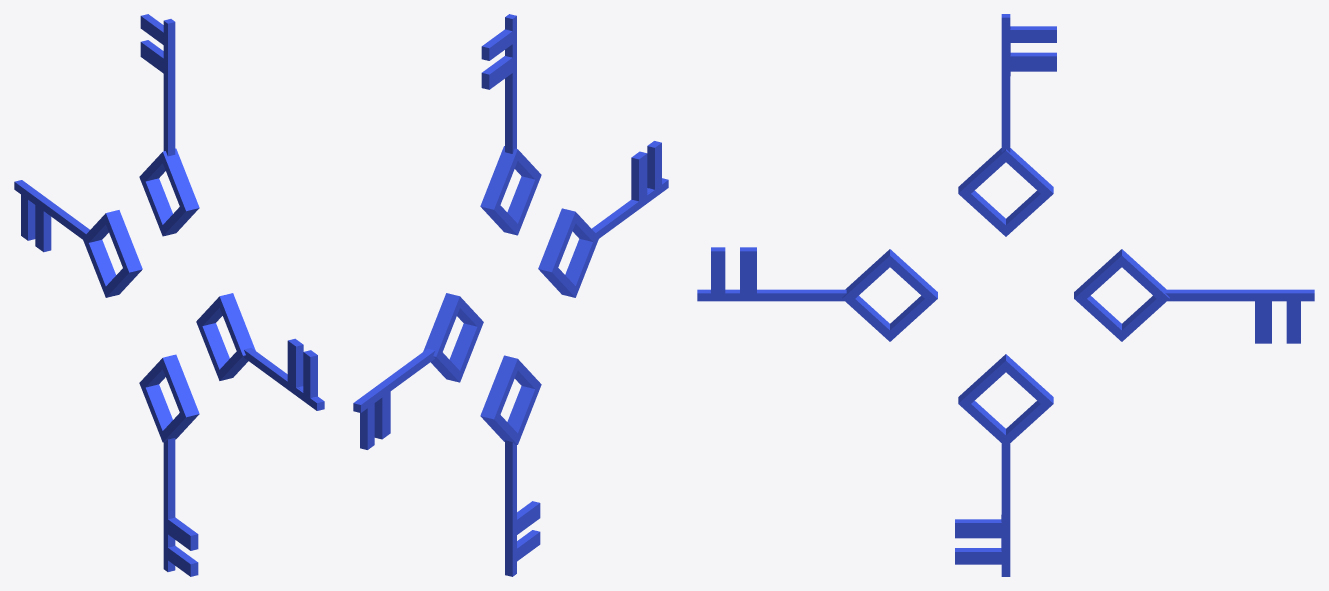
The picture shows the model from 3 angles, left to right: view 1: azimuth 30°, elevation 25°; view 2: azimuth 150°, elevation 25°; view 3: azimuth 270°, elevation 25°; orthographic projection.
Visible parts, largest first — view 1: Cube; view 2: Cube; view 3: Cube.
Part boxes in pixels (x1=…): Cube: x1=14, y1=14, x2=324, y2=576; Cube: x1=353, y1=14, x2=668, y2=576; Cube: x1=697, y1=14, x2=1314, y2=576.
Bounding box in the file's own units: 35.52 × 1376 × 1376.
